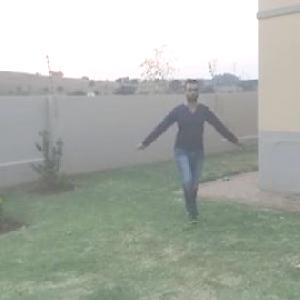land: (128, 76, 235, 214)
